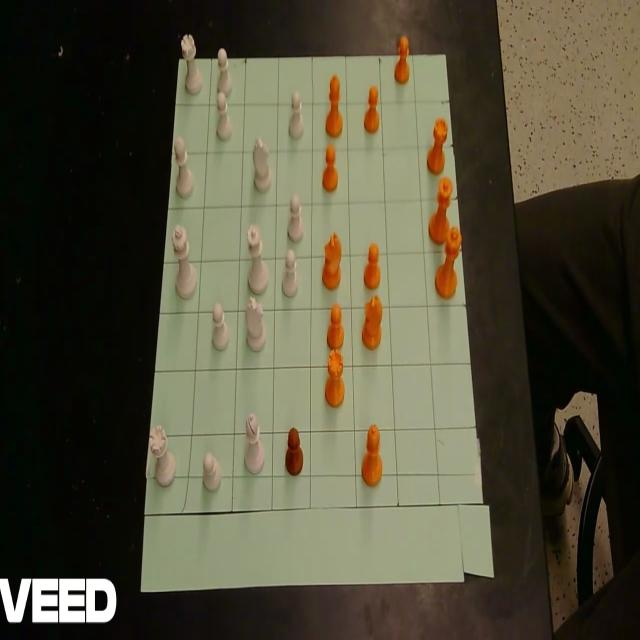orange_bishop: (362, 424, 382, 485), (325, 76, 342, 137), (376, 262, 376, 264)
orange_king: (435, 227, 461, 299)
orange_knight: (362, 295, 382, 349), (322, 233, 341, 289)
orange_pawn: (322, 146, 340, 192), (286, 428, 303, 475), (394, 36, 410, 83), (327, 305, 344, 348), (364, 244, 380, 289), (364, 85, 379, 132)
orange_queen: (428, 177, 452, 244)
orange_rook: (427, 118, 448, 174), (324, 349, 344, 406)
white_bishop: (245, 413, 264, 473), (174, 137, 193, 196)
white_king: (172, 225, 196, 297)
white_knight: (246, 297, 266, 351), (254, 138, 271, 191)
white_pawn: (212, 302, 228, 349), (282, 250, 298, 296), (217, 91, 232, 140), (289, 92, 304, 139), (218, 48, 232, 97), (288, 194, 302, 242), (203, 452, 220, 491)
white_queen: (247, 224, 268, 293)
white_rook: (150, 425, 175, 486), (181, 34, 202, 94)
